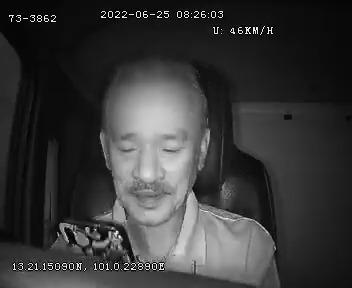PhoneUse: (49, 212, 132, 271)
